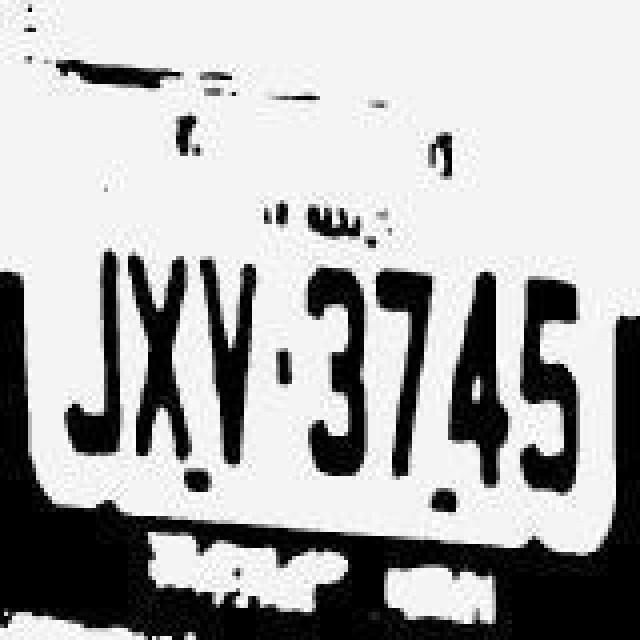3: (300, 260, 372, 492)
4: (444, 256, 516, 496)
5: (514, 268, 590, 500)
7: (372, 258, 436, 486)
J: (62, 240, 130, 464)
V: (198, 248, 266, 472)
X: (128, 244, 192, 460)
